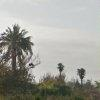Palm tree: (3, 20, 36, 86)
